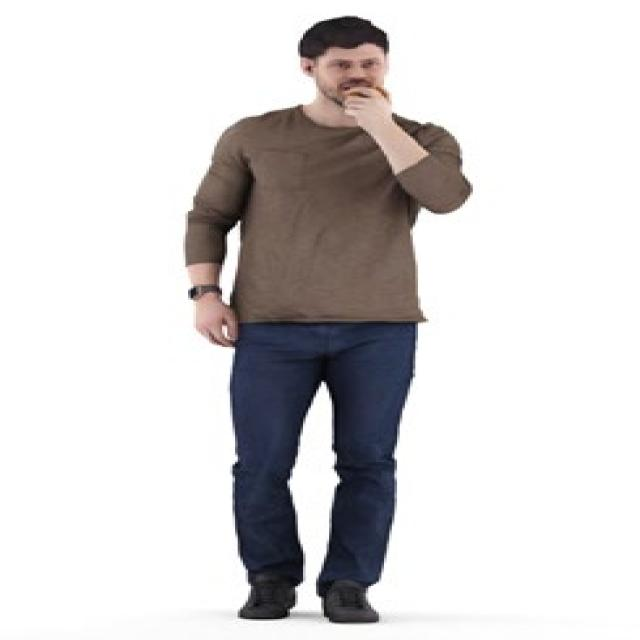standing: (178, 14, 478, 626)
